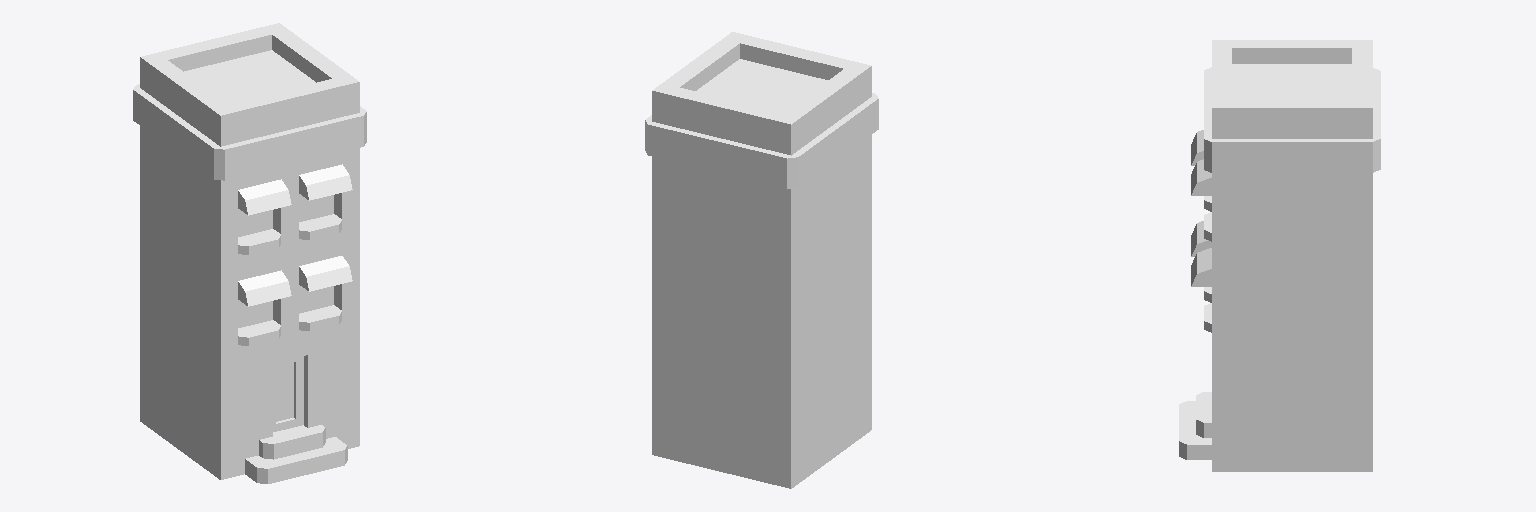
Rendered from building-sample-tower-a.obj.
3 views of the same model, side by side, from view 1: azimuth 30°, elevation 25°; view 2: azimuth 150°, elevation 25°; view 3: azimuth 270°, elevation 25° (orthographic).
Visible parts, largest first — view 1: building-sample-tower-a; view 2: building-sample-tower-a; view 3: building-sample-tower-a.
Boxes of the visible parts, x1,y1,x2,y2 form: building-sample-tower-a: [133, 23, 366, 483]; building-sample-tower-a: [645, 32, 878, 488]; building-sample-tower-a: [1179, 40, 1380, 471].
Size of the model in its own units: 1.1 by 2.5 by 1.25.